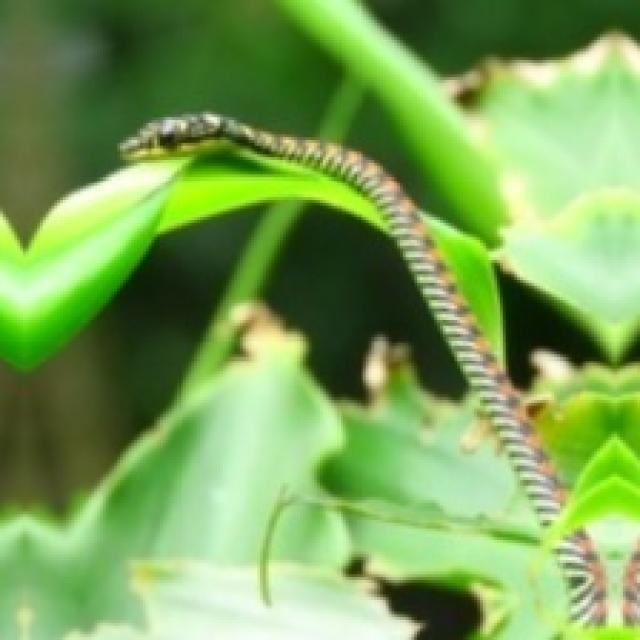paradise tree snake: (120, 114, 637, 637), (254, 171, 469, 406)
